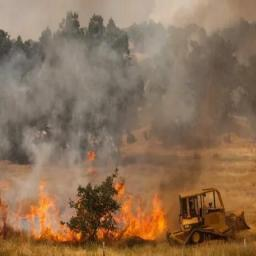Low smoke: (0, 0, 256, 181)
Small fire: (0, 148, 220, 250)
